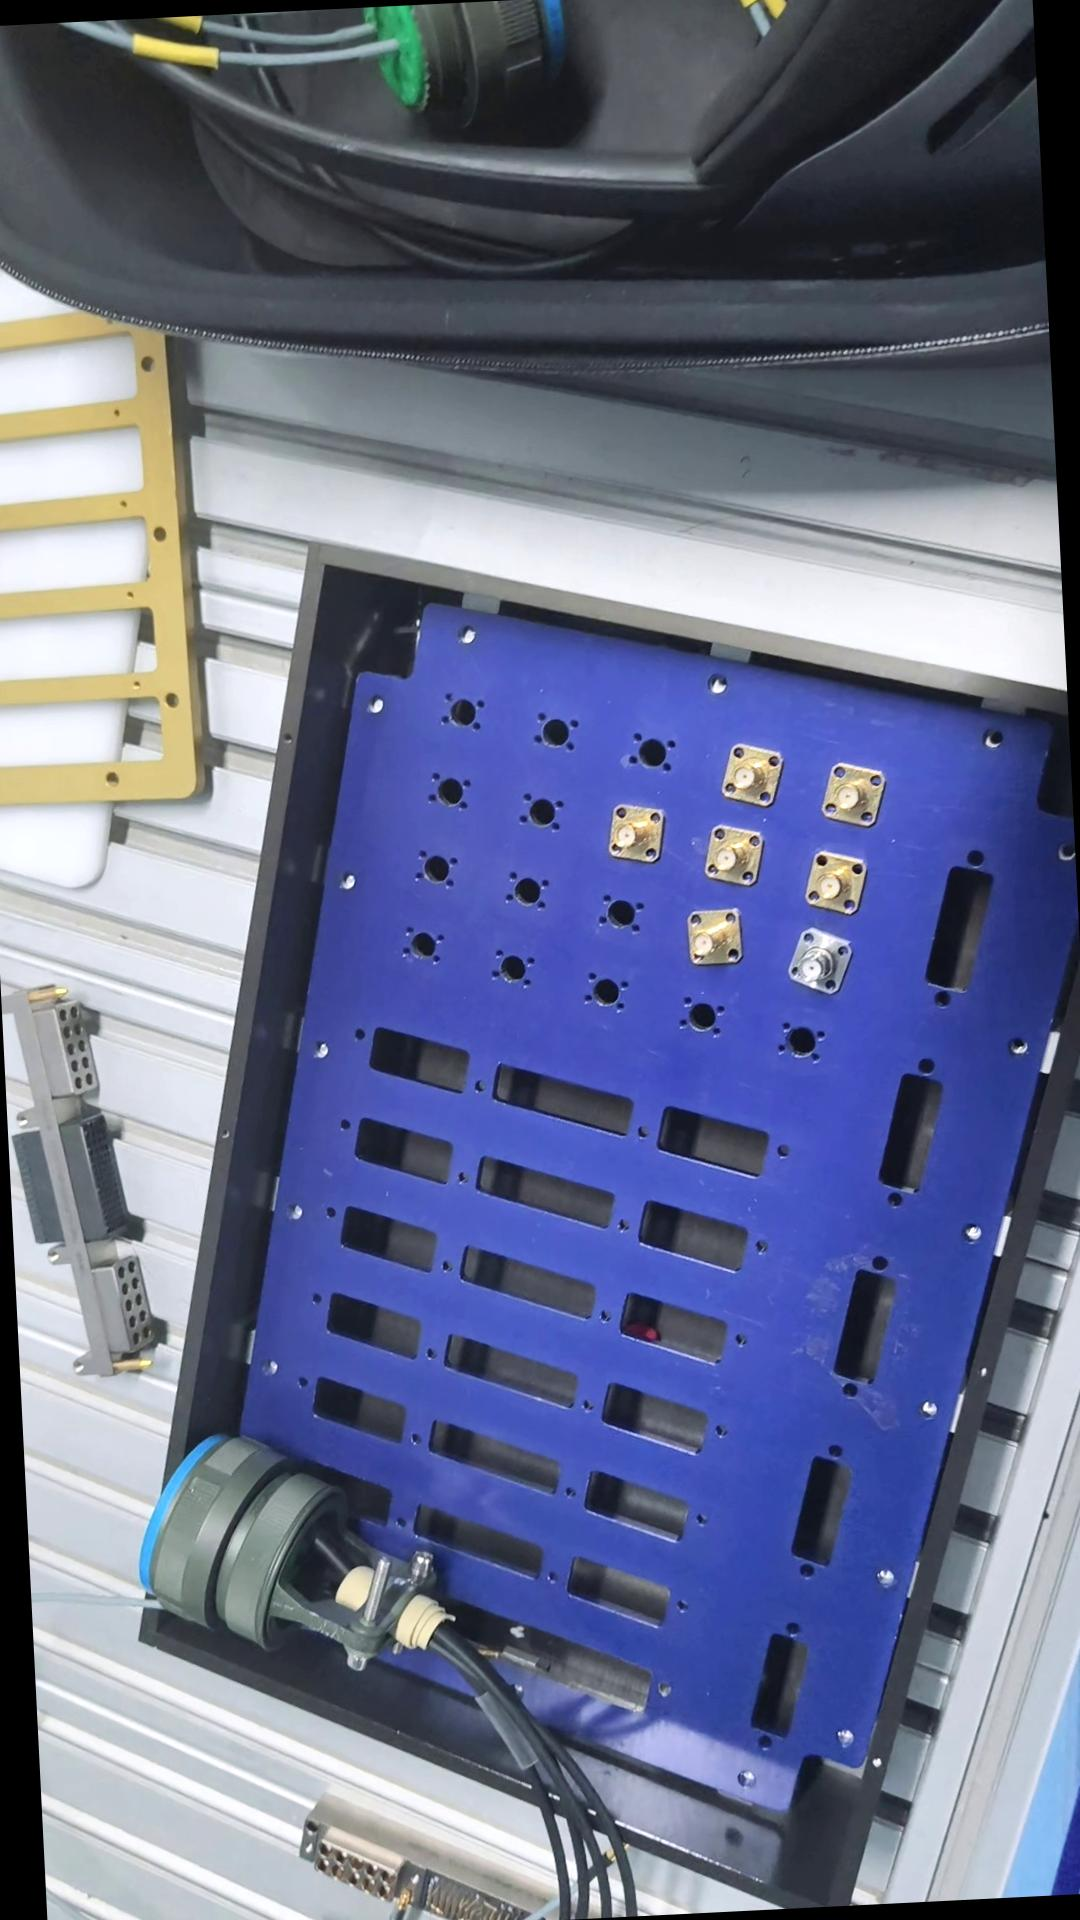SMA: (781, 926, 858, 996), (704, 745, 789, 808), (795, 843, 868, 913), (593, 800, 670, 866), (692, 824, 771, 886), (818, 758, 884, 827), (676, 905, 742, 969)
